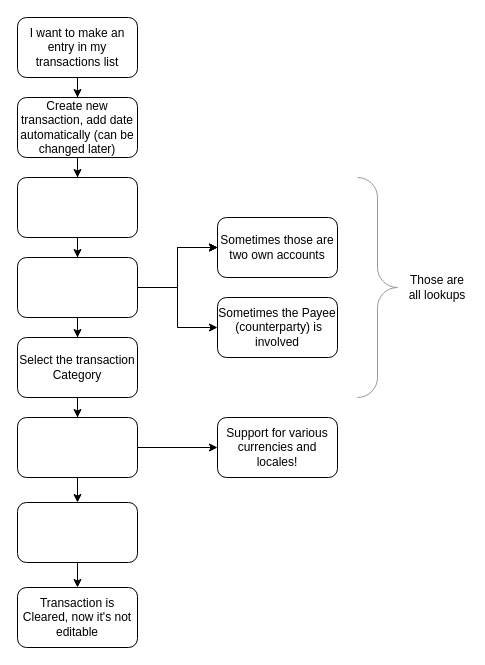
The diagram is 485 pixels wide and 665 high, and some of its shapes have lost their labels. Here are the shapes that lost their labels. From the top down, the centre of each, then its label:
At point 77,207: "Select account From which it is made".
At point 77,287: "Select account To which the expense is made".
At point 77,447: "Fill in (mandatory) Amount and (optional) Comment".
At point 77,532: "Transaction is saved, but can be modified".
